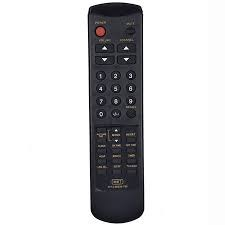remote control: (82, 3, 156, 224)
